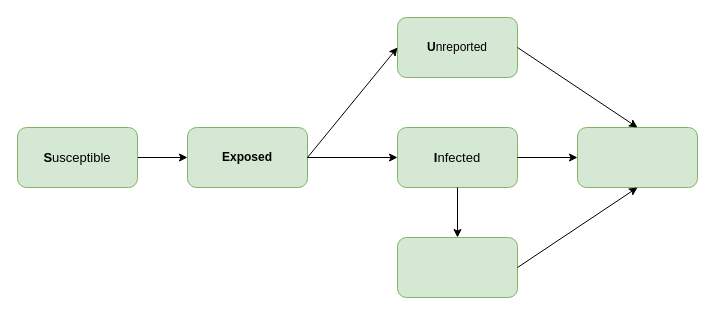
The diagram is 715 pixels wide and 315 high, and some of its shapes have lost their labels. The centre of each missing label's shape, as x and y in pixels:
H ospitalized: [457,267]
R emoved: [637,157]
